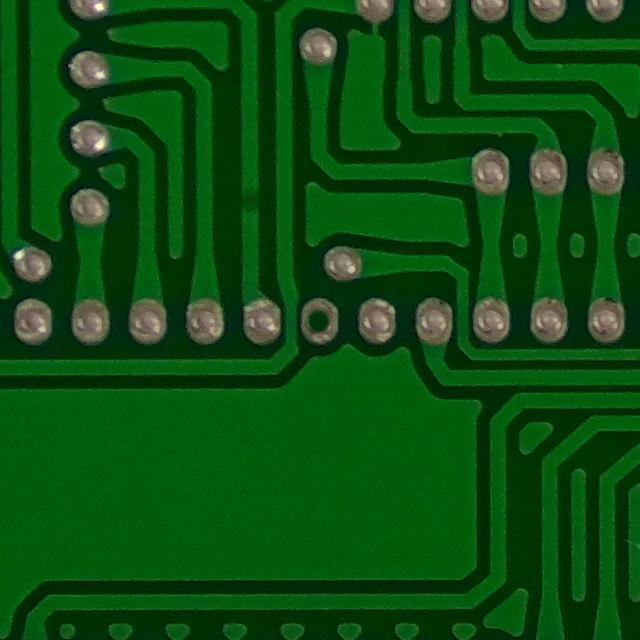missing_hole: (289, 288, 349, 355)
